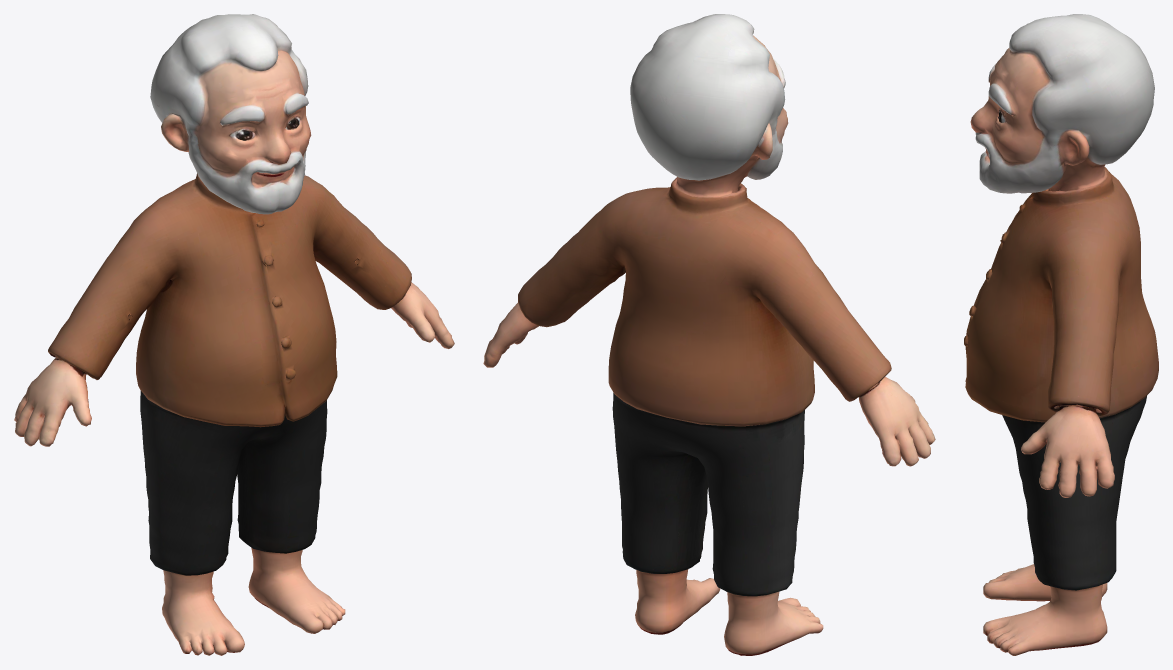
The model's file is cu-binh.4d629a86.glb.
3 renders of one model, left to right at view 1: azimuth 30°, elevation 25°; view 2: azimuth 150°, elevation 25°; view 3: azimuth 270°, elevation 25°, orthographic. The views are drawn at different scales.
Parts seen in each view (by area): view 1: tripo_node_1ae3f9b2-3e5d-4559-9c00-db307d52de95; view 2: tripo_node_1ae3f9b2-3e5d-4559-9c00-db307d52de95; view 3: tripo_node_1ae3f9b2-3e5d-4559-9c00-db307d52de95.
Part boxes in pixels (x1,y1,x2,y2): tripo_node_1ae3f9b2-3e5d-4559-9c00-db307d52de95: (14, 14, 454, 655); tripo_node_1ae3f9b2-3e5d-4559-9c00-db307d52de95: (483, 14, 935, 655); tripo_node_1ae3f9b2-3e5d-4559-9c00-db307d52de95: (964, 14, 1158, 655).
Size of the model in its own units: 0.729 by 0.9778 by 0.2889.
Materials: 1 (1 with a texture image).
